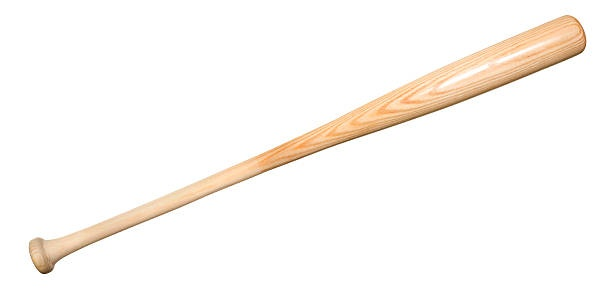bita: (29, 19, 578, 275)
